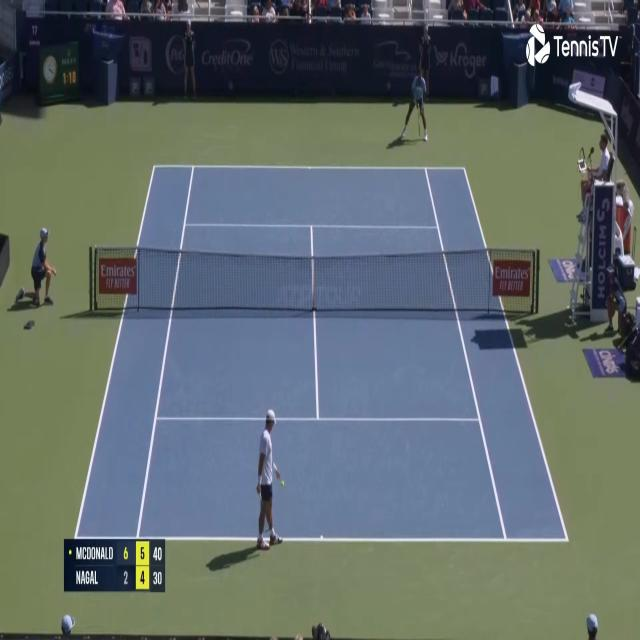tennis-player: (251, 405, 286, 556), (398, 62, 428, 144)
